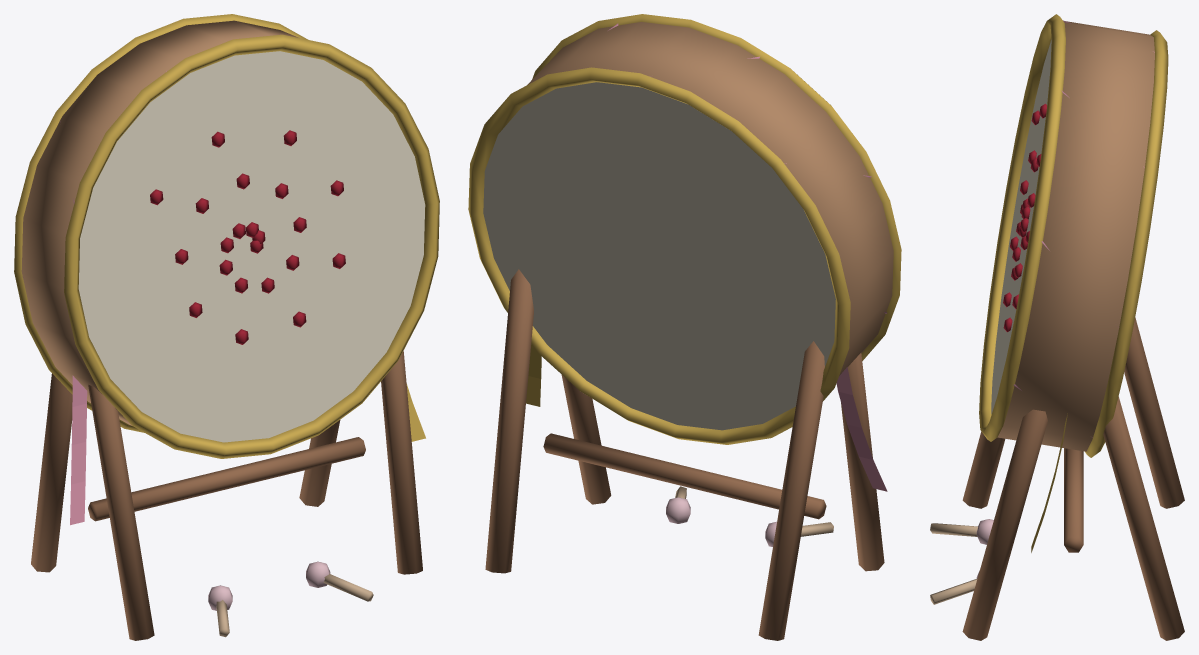
File: rite_drum.gltf
3 renders of one model, left to right at view 1: azimuth 30°, elevation 25°; view 2: azimuth 150°, elevation 25°; view 3: azimuth 270°, elevation 25°, orthographic.
Parts seen in each view (by area): view 1: rite_drum; view 2: rite_drum; view 3: rite_drum.
Boxes of the visible parts, x1,y1,x2,y2 form: rite_drum: [14, 14, 439, 640]; rite_drum: [468, 14, 901, 640]; rite_drum: [930, 14, 1184, 640].
Size of what is drawn, in the model's own units: 1.54 by 2.1 by 0.9026.
